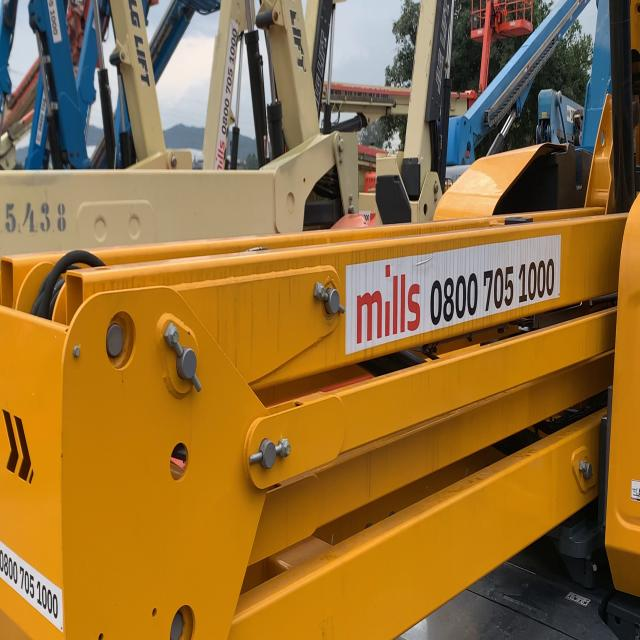Adesivo Longo: (343, 230, 564, 360)
